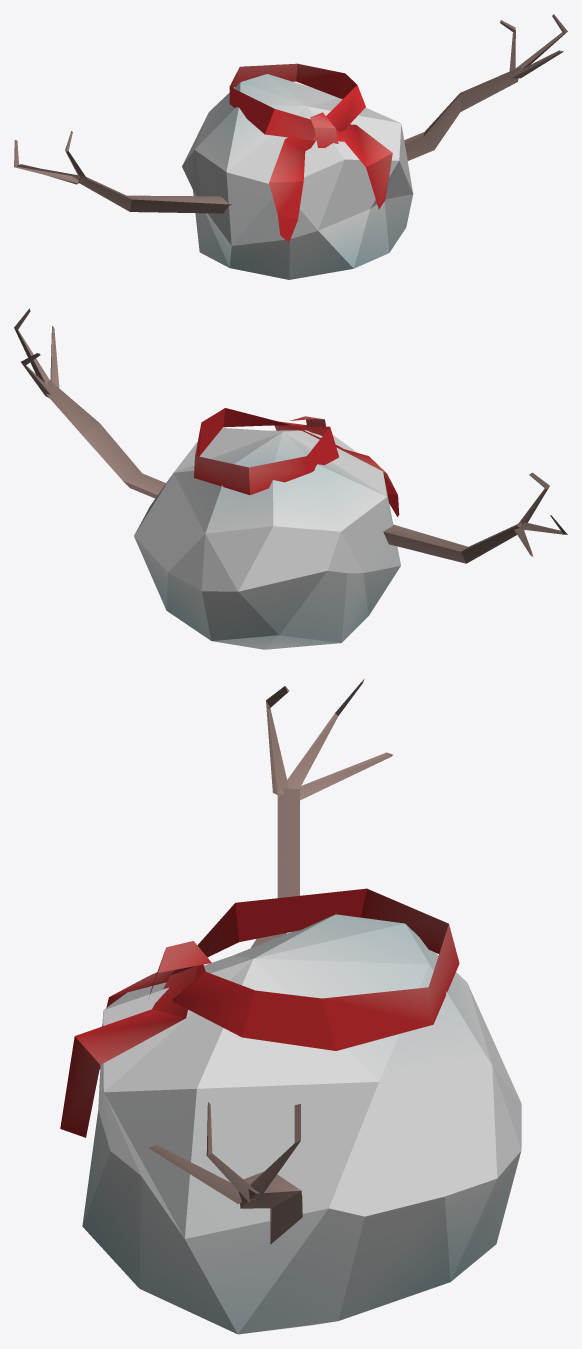
The model's file is sm_snow_man_body.fbx.
3 renders of one model, top to bottom at view 1: azimuth 30°, elevation 25°; view 2: azimuth 150°, elevation 25°; view 3: azimuth 270°, elevation 25°, orthographic. The views are drawn at different scales.
Parts seen in each view (by area): view 1: sm_snow_man_body; view 2: sm_snow_man_body; view 3: sm_snow_man_body.
Boxes of the visible parts, left/top/right/bottom form: sm_snow_man_body: left=14, top=14, right=567, bottom=279; sm_snow_man_body: left=14, top=308, right=567, bottom=649; sm_snow_man_body: left=60, top=679, right=521, bottom=1334.
Size of the model in its own units: 116 by 280 by 107.
